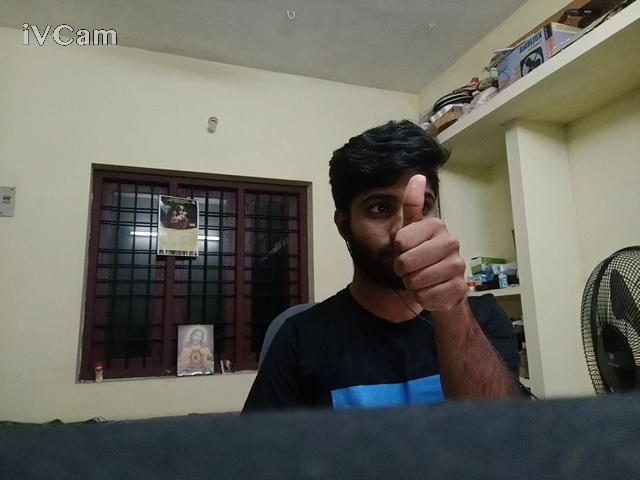Yes: (326, 157, 527, 358)
